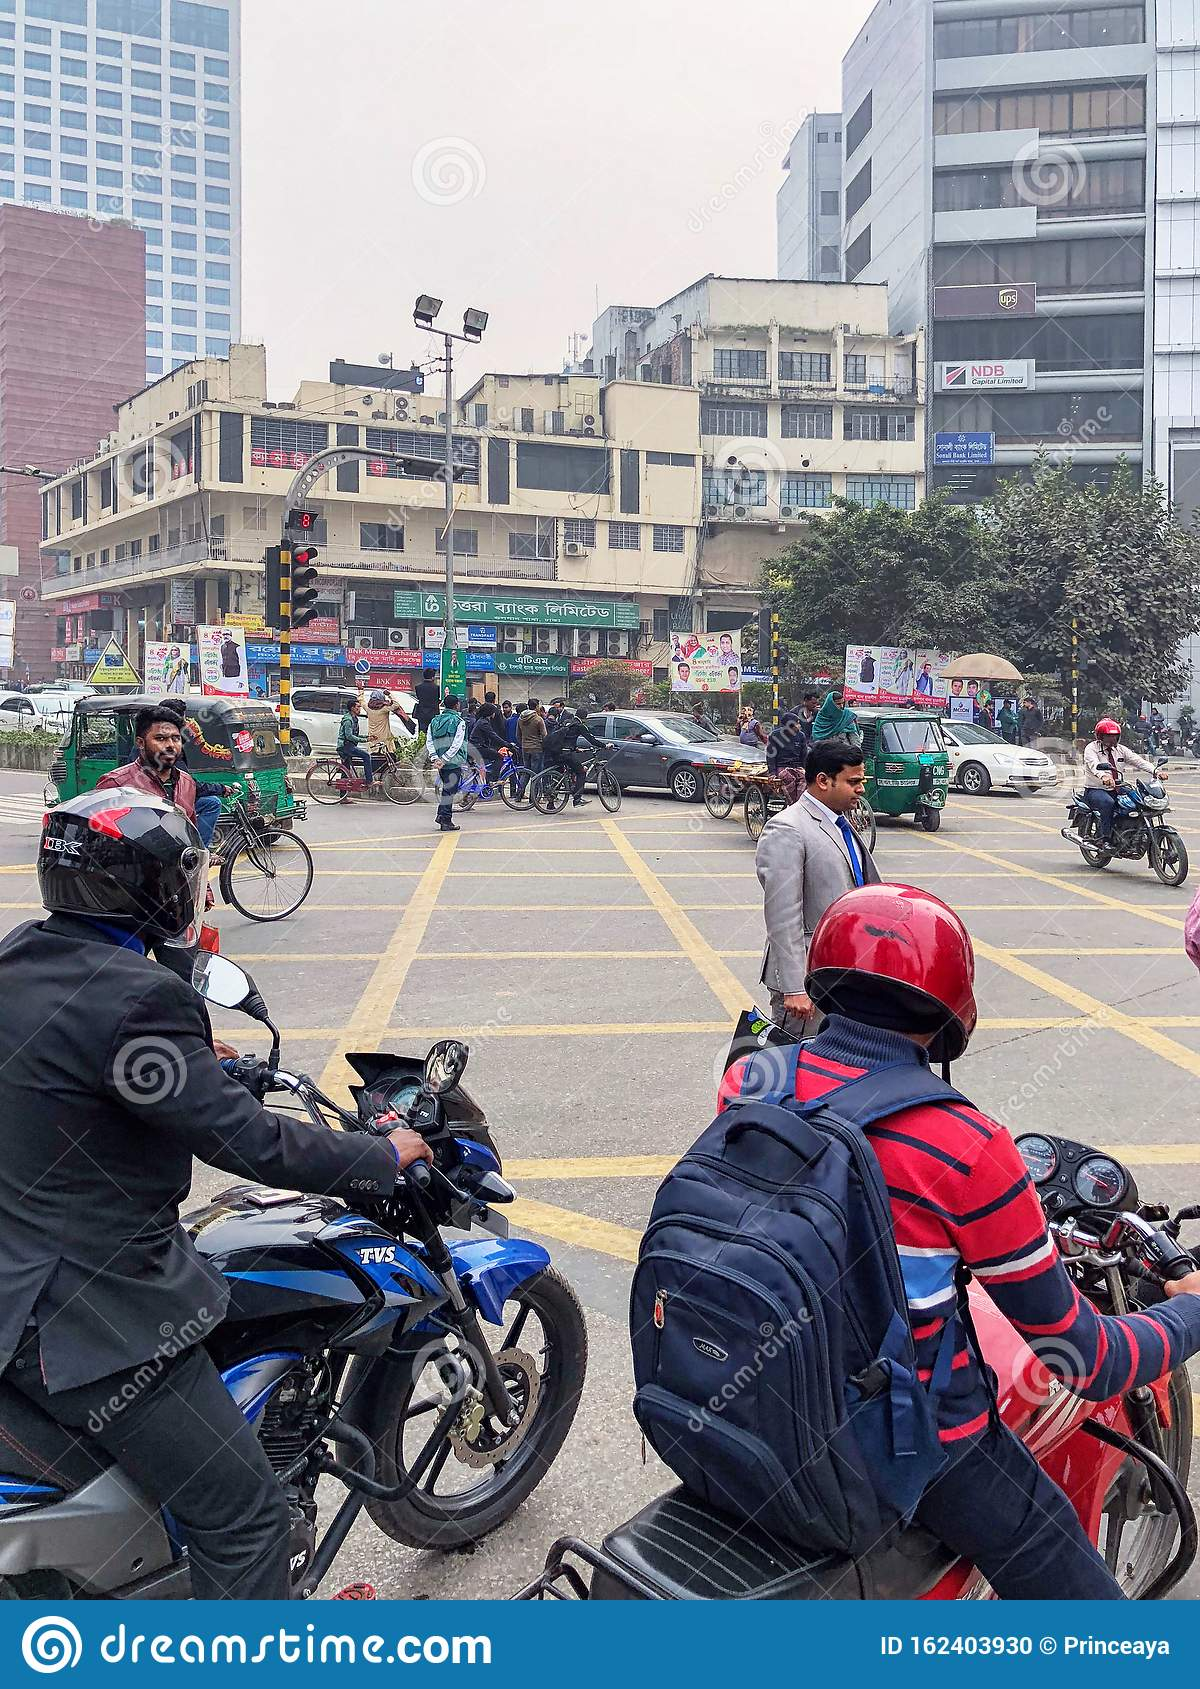bicycle: (1, 967, 595, 1599), (482, 1106, 1199, 1599), (1057, 782, 1195, 885)
